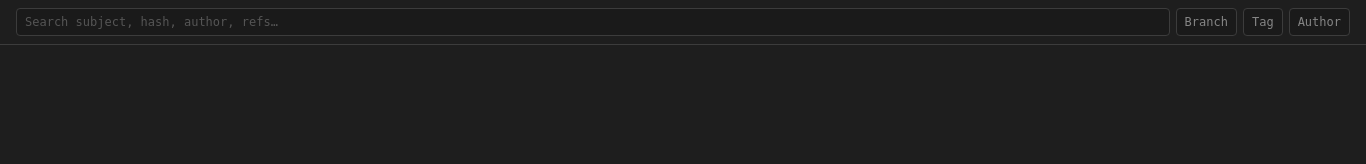
Scenario: CommitFilterBar › branch dropdown lists distinct branch names derived from the commits, excluding tags
The width and height of the screenshot is (1366, 164).
Step 1. Click the button "Branch" → (1206, 22), box [1176,8,1237,36]
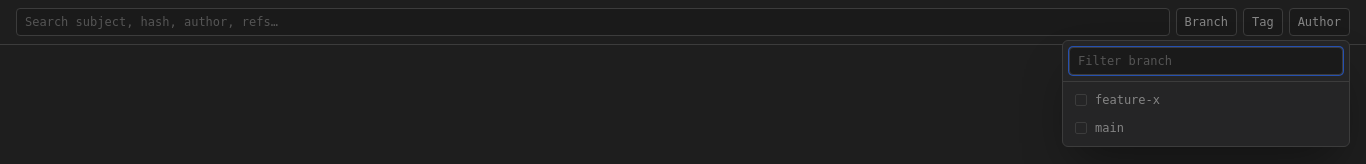
Check: the text "main" is shown, box [1095,121,1124,135]
Check: the text "feature-x" is shown, box [1095,93,1160,107]
